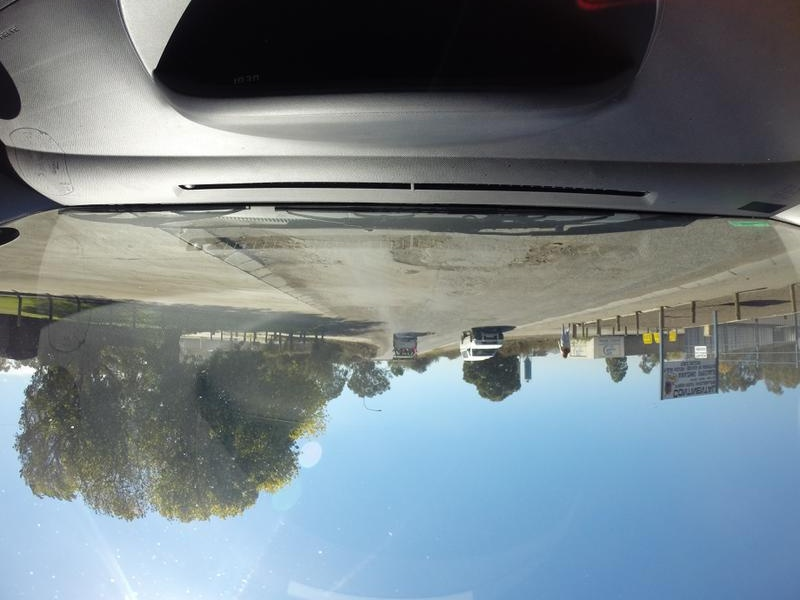pothole: (517, 233, 586, 279), (382, 232, 453, 276), (241, 223, 317, 263)
